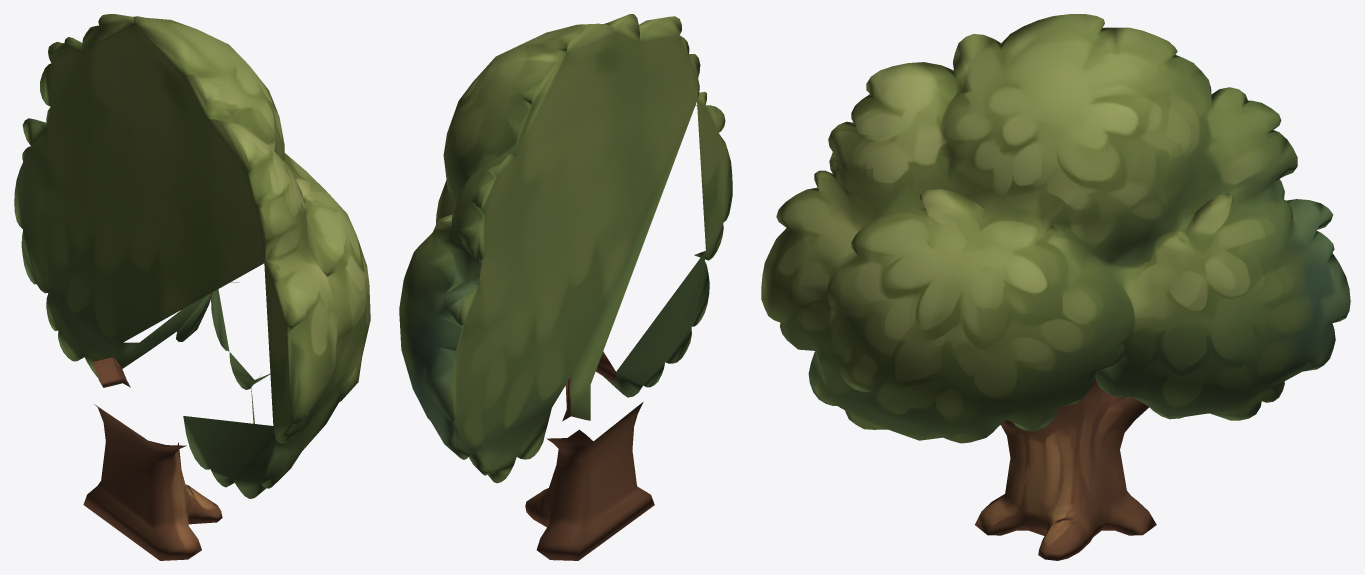
Rendered from map_tree_a_tripo.glb.
3 renders of one model, left to right at view 1: azimuth 30°, elevation 25°; view 2: azimuth 150°, elevation 25°; view 3: azimuth 270°, elevation 25°, orthographic. The views are drawn at different scales.
Parts seen in each view (by area): view 1: tripo_node_2077c251-72d2-4a70-b5b2-e1443253fe35; view 2: tripo_node_2077c251-72d2-4a70-b5b2-e1443253fe35; view 3: tripo_node_2077c251-72d2-4a70-b5b2-e1443253fe35.
Boxes of the visible parts, x1=… form: tripo_node_2077c251-72d2-4a70-b5b2-e1443253fe35: x1=14, y1=14, x2=370, y2=560; tripo_node_2077c251-72d2-4a70-b5b2-e1443253fe35: x1=399, y1=14, x2=732, y2=560; tripo_node_2077c251-72d2-4a70-b5b2-e1443253fe35: x1=761, y1=14, x2=1350, y2=560.
Size of the model in its own units: 0.3965 by 0.9629 by 0.998.
Materials: 1 (1 with a texture image).
